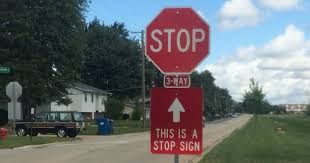SS: (145, 8, 210, 75)
